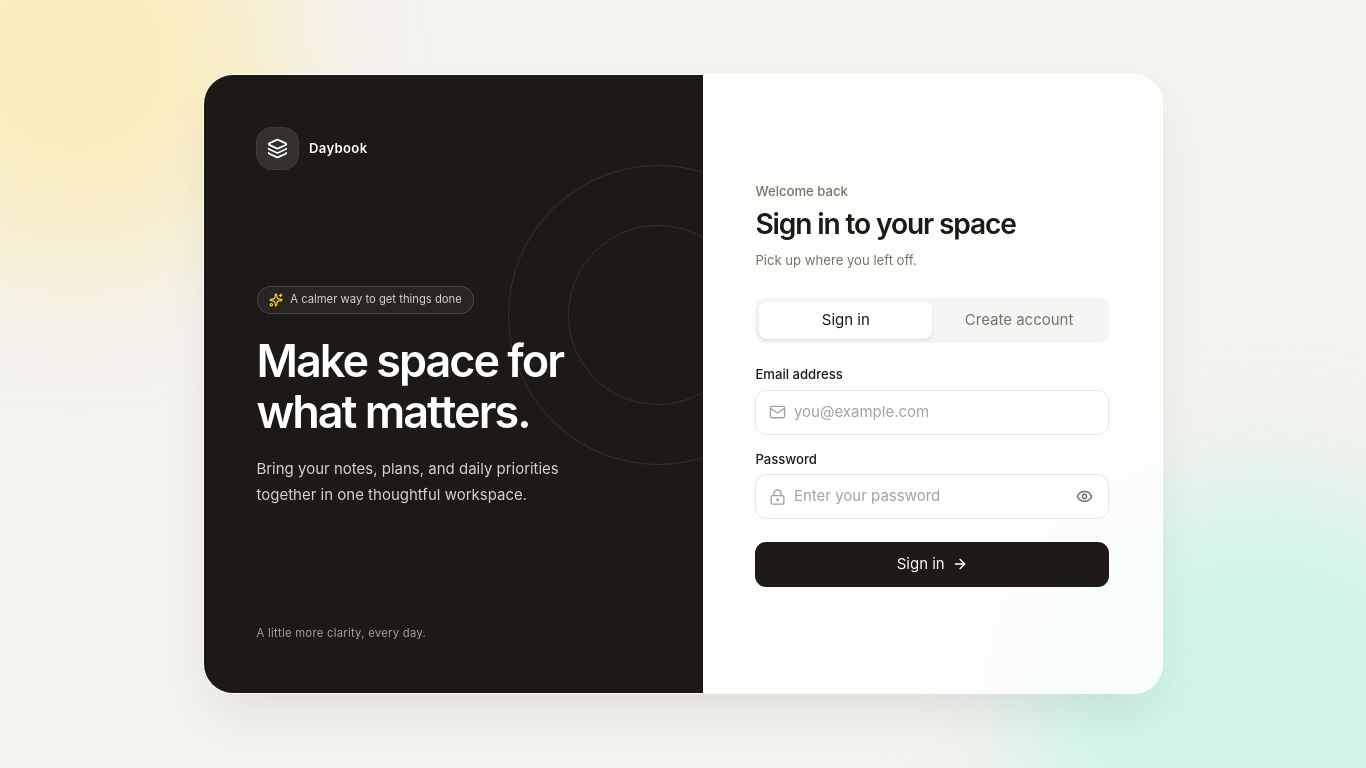
Test: LoginScreen › requires matching passwords before creating an account
Step 1. Click the button "Create account" → (1019, 320), box 932,302 -> 1106,339
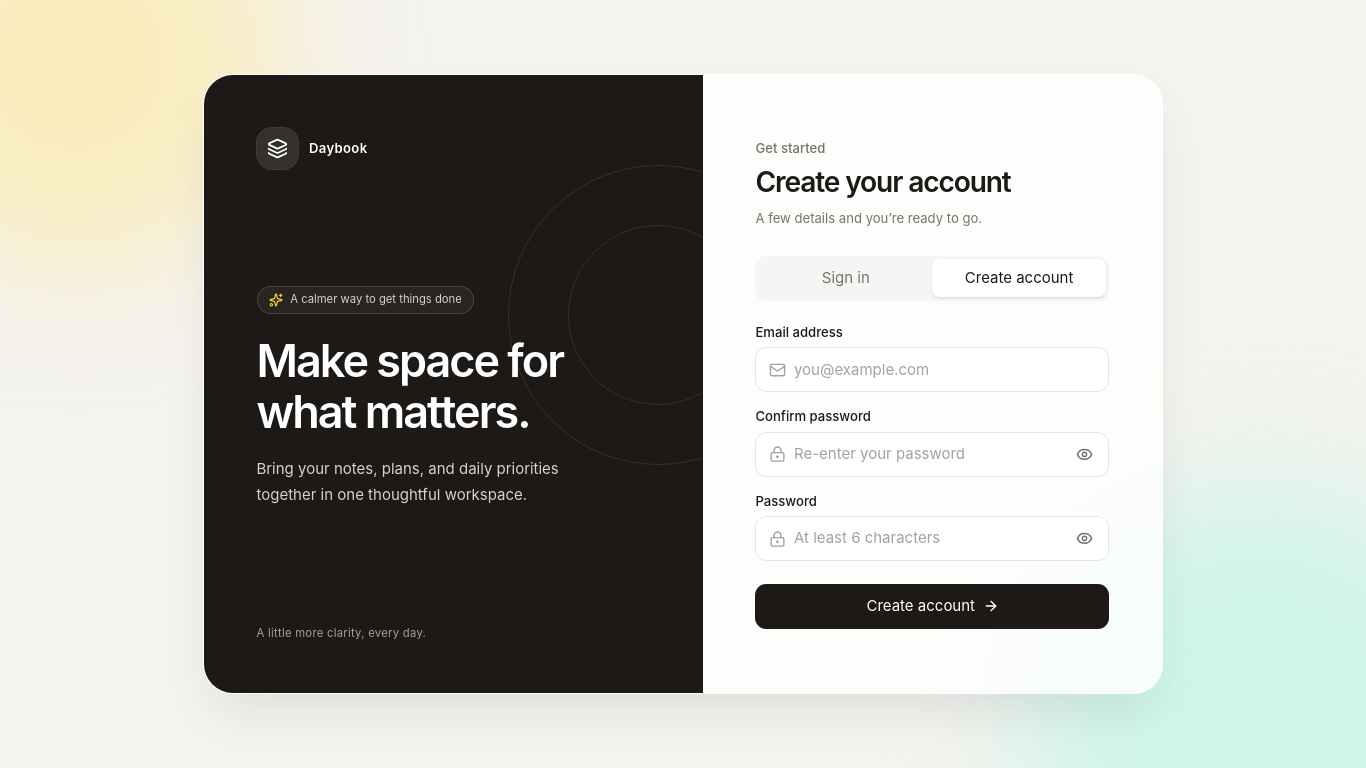
Step 2. Type "visitor@example.com" into the field labelled "Email address" → (932, 370), box 756,347 -> 1110,392
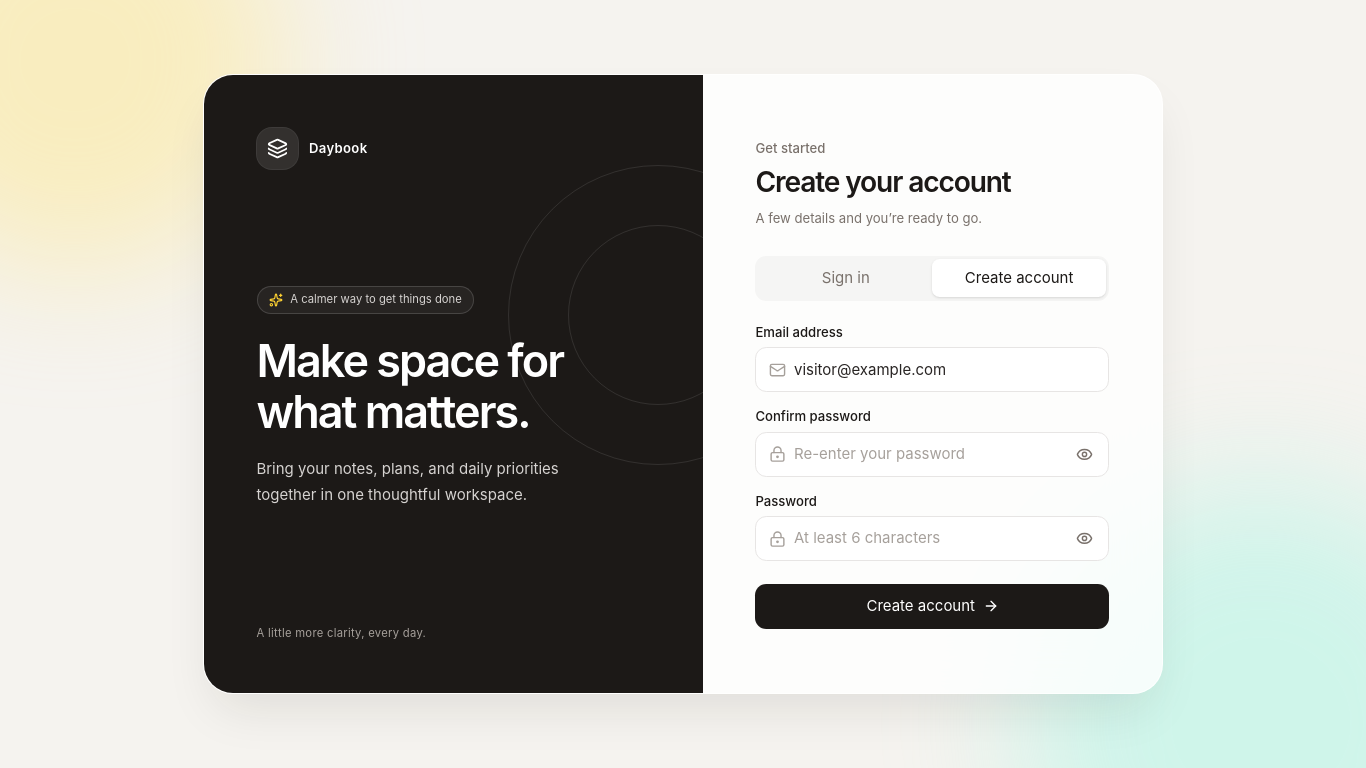
Step 3. Type "secret1" into the password field labelled "Password" → (932, 539), box 756,516 -> 1110,561
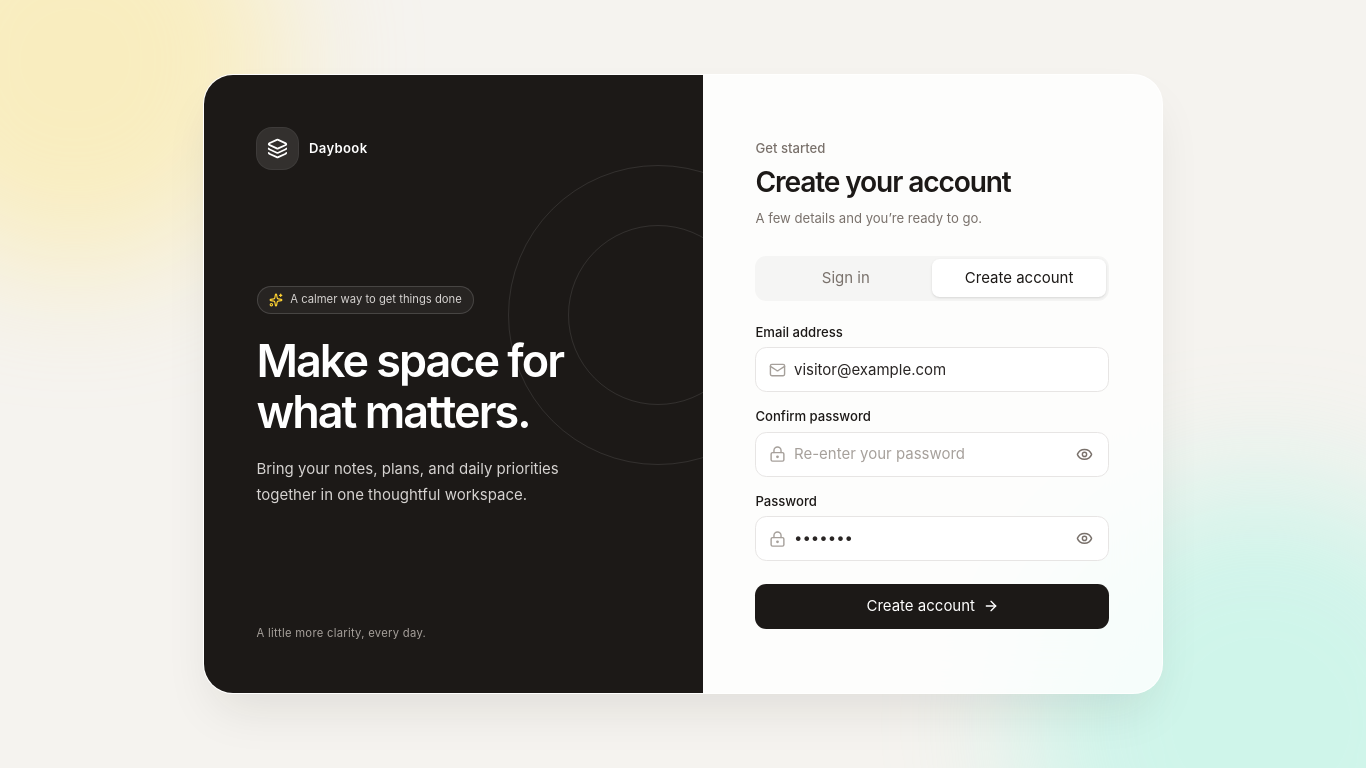
Step 4. Type "different1" into the password field labelled "Confirm password" → (932, 454), box 756,432 -> 1110,477
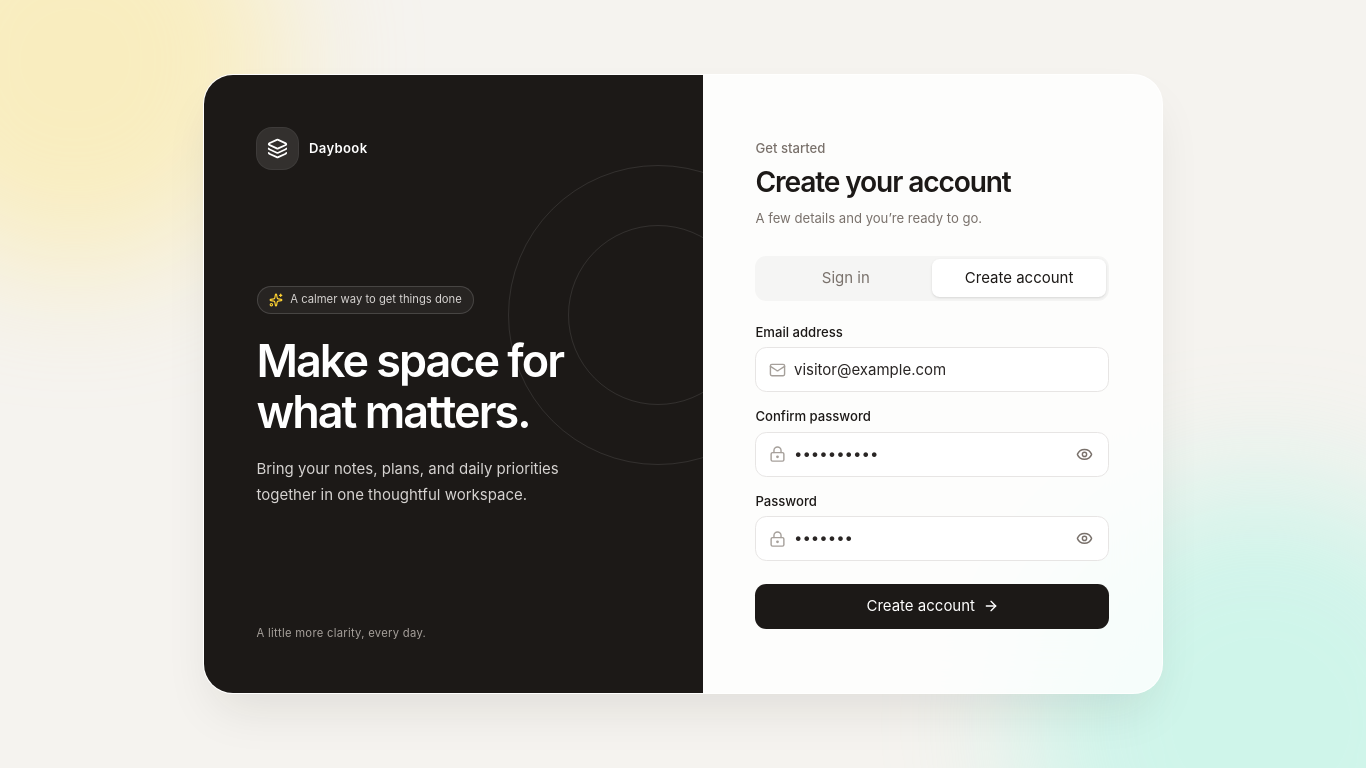
Step 5. Submit the form labelled "Email address", box 756,323 -> 1110,629
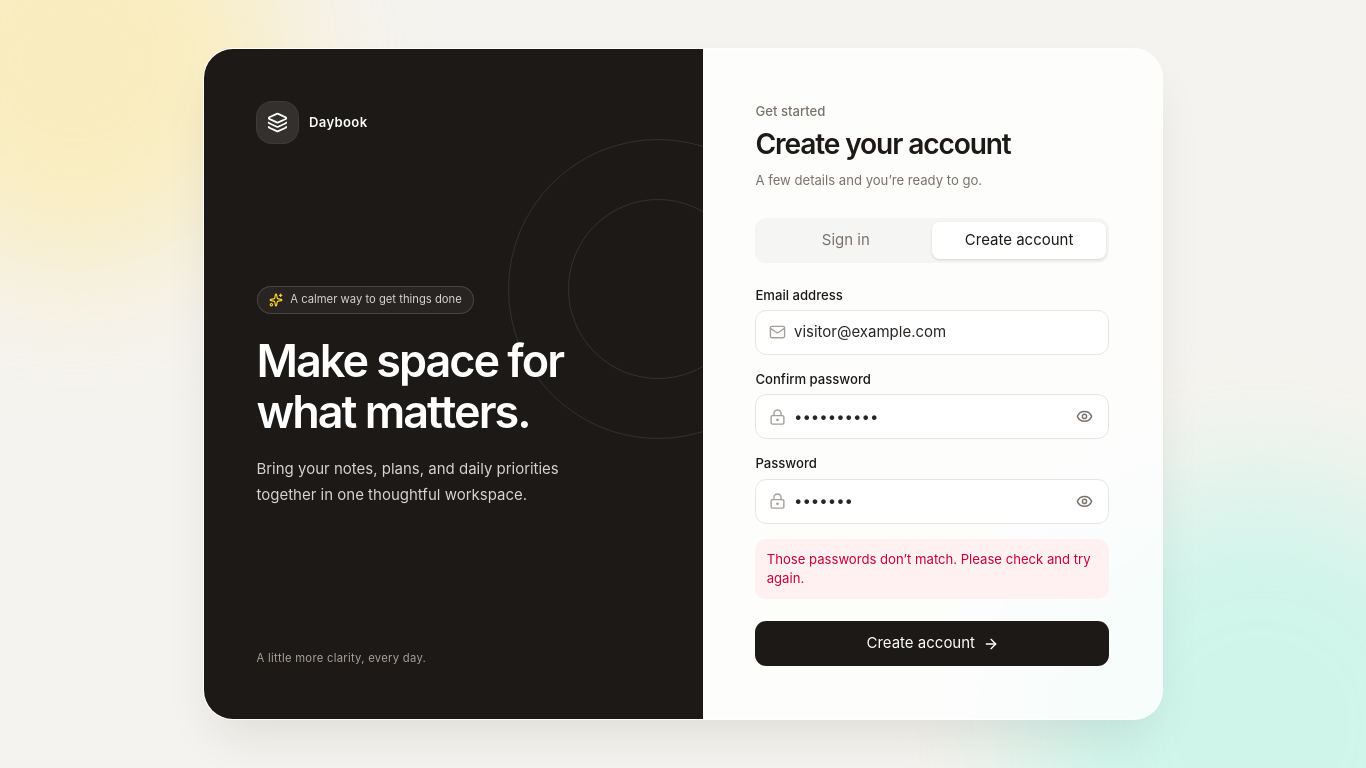
Now the message shows "passwords don’t match", box 767,551 -> 1091,586
